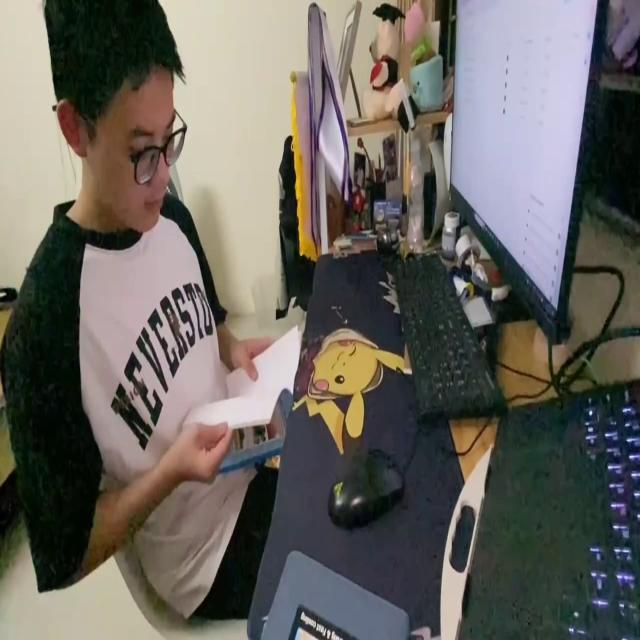book: (179, 322, 302, 475)
laptop: (448, 0, 612, 349)
student: (0, 0, 282, 619)
